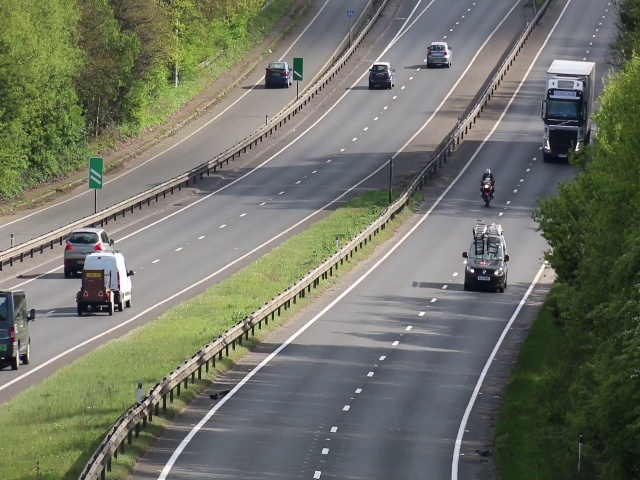car: (536, 73, 587, 166), (78, 251, 135, 309), (1, 289, 34, 368), (465, 236, 507, 289), (64, 230, 116, 261), (424, 39, 453, 70), (264, 59, 293, 87), (365, 63, 394, 89)
